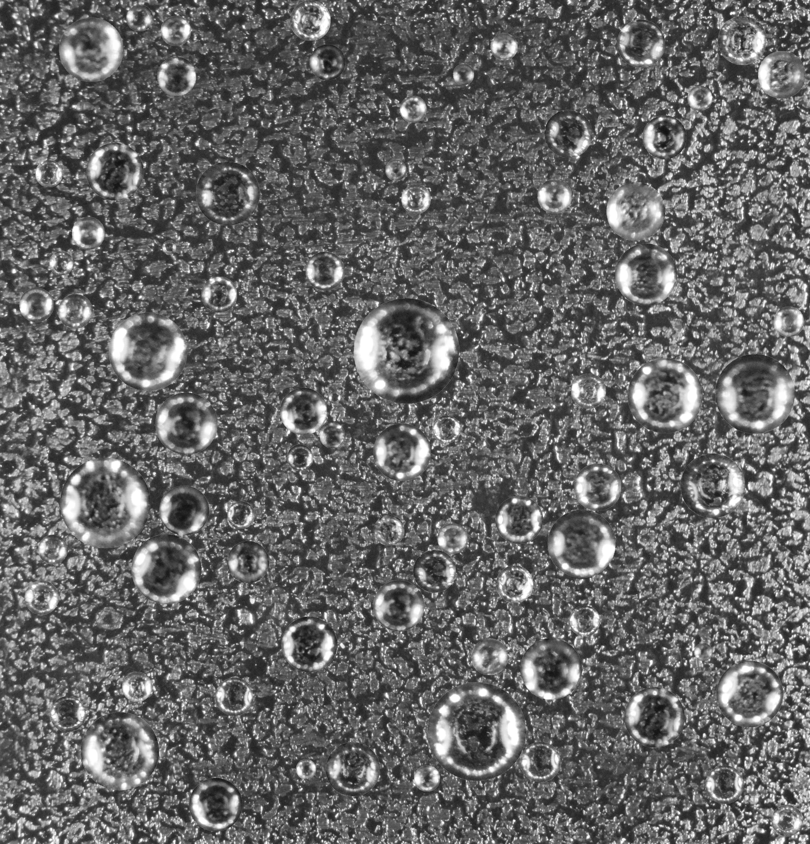Bubble: (353, 298, 459, 403), (427, 682, 526, 780), (60, 457, 150, 548), (715, 354, 794, 433), (108, 312, 187, 390), (80, 712, 158, 790), (627, 358, 702, 433), (131, 534, 201, 604), (547, 509, 615, 577), (716, 660, 783, 727), (680, 453, 745, 518), (59, 17, 123, 81), (195, 161, 259, 225), (615, 243, 677, 305), (155, 392, 217, 454), (520, 638, 581, 699), (624, 687, 684, 747), (606, 182, 665, 240), (86, 142, 143, 200), (373, 423, 430, 481), (281, 616, 337, 672), (325, 742, 379, 796), (189, 778, 242, 831), (373, 580, 424, 631), (159, 485, 209, 535), (544, 109, 592, 157), (617, 19, 665, 67), (718, 16, 766, 64), (495, 496, 543, 543), (280, 387, 327, 434), (574, 463, 621, 510), (758, 51, 805, 98), (642, 115, 686, 159), (227, 541, 269, 583), (413, 550, 455, 592), (290, 0, 330, 40), (520, 742, 560, 782), (157, 56, 196, 95), (305, 251, 344, 290), (705, 765, 743, 803), (215, 677, 253, 715), (496, 565, 533, 602), (471, 638, 507, 675), (309, 44, 345, 80), (201, 276, 237, 312), (49, 696, 85, 732), (571, 373, 606, 408), (19, 287, 53, 322), (24, 580, 58, 614), (537, 179, 571, 213), (58, 294, 92, 328), (71, 216, 104, 249), (771, 804, 803, 836), (569, 605, 600, 636), (373, 515, 404, 545), (773, 306, 804, 336), (437, 523, 467, 553), (160, 15, 190, 45), (38, 534, 67, 564), (401, 184, 430, 213), (122, 672, 151, 701), (432, 415, 460, 443), (490, 33, 517, 60), (227, 501, 254, 528), (399, 95, 426, 122), (35, 160, 62, 187), (126, 4, 152, 31), (414, 765, 440, 791), (287, 444, 313, 470), (319, 422, 345, 448), (687, 85, 712, 110), (49, 251, 73, 275), (453, 63, 474, 84), (385, 159, 406, 180), (296, 759, 316, 779), (694, 643, 712, 661), (162, 240, 176, 254), (782, 230, 795, 243), (327, 391, 340, 403), (176, 714, 183, 722)
